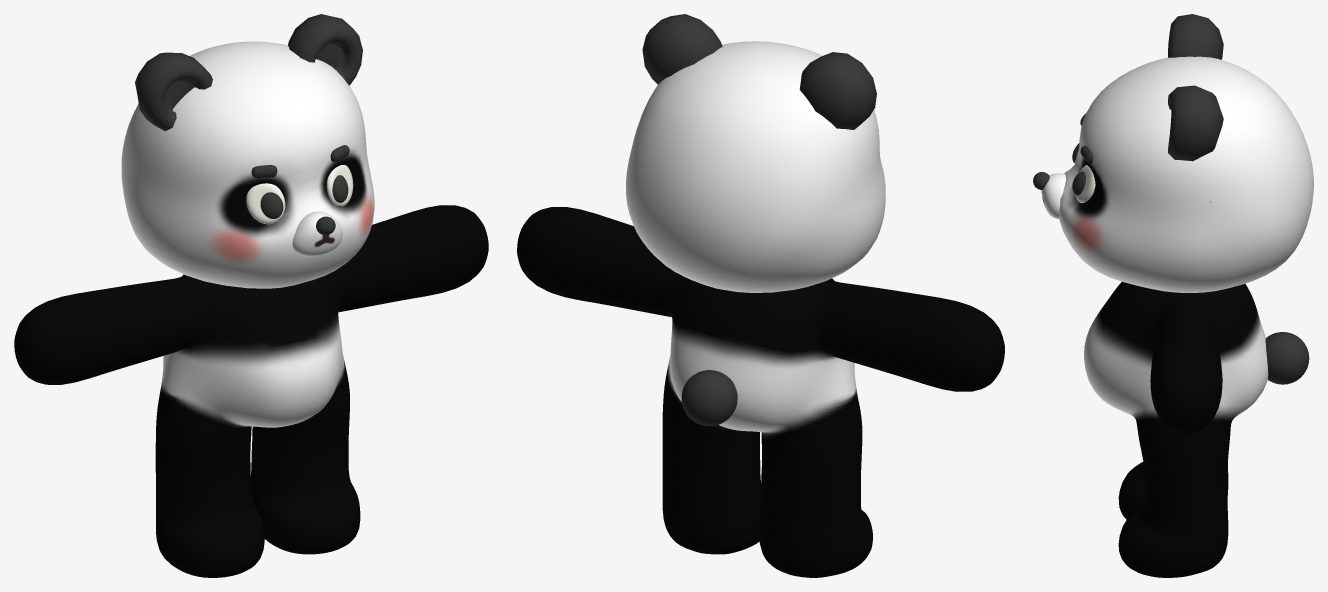
The model's file is uploads_files_3834887_panda.glb.
3 renders of one model, left to right at view 1: azimuth 30°, elevation 25°; view 2: azimuth 150°, elevation 25°; view 3: azimuth 270°, elevation 25°, orthographic. The views are drawn at different scales.
Visible parts, largest first — view 1: body, head, ears, eyes, mouth; view 2: body, head, ears, tail; view 3: head, body, ears, tail, mouth, eyes.
Boxes of the visible parts, <box> form: body: <box>14,205,488,577</box>; head: <box>121,41,374,288</box>; ears: <box>135,14,362,131</box>; eyes: <box>246,165,353,224</box>; mouth: <box>292,211,342,256</box>; body: <box>517,207,1004,577</box>; head: <box>626,41,885,292</box>; ears: <box>642,14,876,129</box>; tail: <box>681,370,737,426</box>; head: <box>1059,56,1313,292</box>; body: <box>1084,282,1268,577</box>; ears: <box>1168,14,1223,161</box>; tail: <box>1265,332,1309,384</box>; mouth: <box>1041,173,1065,218</box>; eyes: <box>1072,143,1095,203</box>.
Size of the model in its own units: 3.64 by 3.8 by 1.98.
5 materials, 3 textured.
